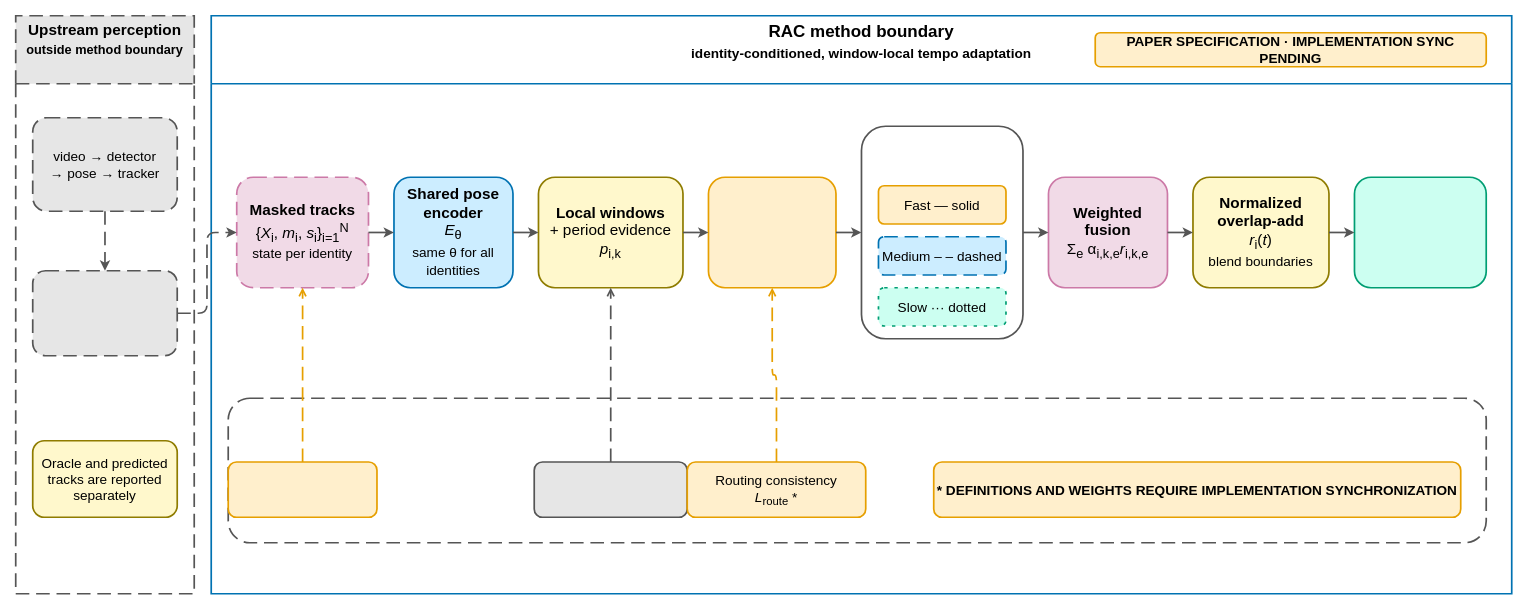
Some shapes in this 1527 by 609 pixel diagram are drawn without their labels. Here are the shapes that lost their labels. From the top down, the box of each, then its label:
(707, 176, 836, 288): Soft tempo router α i,k,e PROVISIONAL · SYNC
(860, 125, 1023, 339): Shared tempo experts
(1353, 176, 1487, 288): One final peak pass per identity ĉ = [ĉ 1 , …, ĉ N ] T
(31, 269, 178, 356): tracked poses {id i , X i , m i }
(227, 461, 377, 518): Track continuity on { s i } L cont *
(533, 461, 688, 518): PAMS-TCC objective L TCC
(227, 397, 1487, 543): Training signals dashed links; routing and continuity terms are provisional
